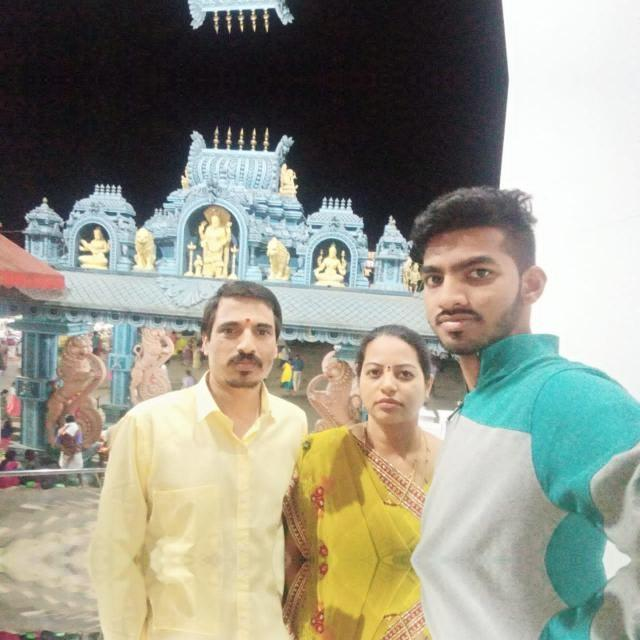person: (406, 180, 640, 560), (132, 270, 296, 560), (330, 307, 444, 553), (406, 559, 640, 640), (132, 560, 296, 640), (329, 567, 444, 640)
